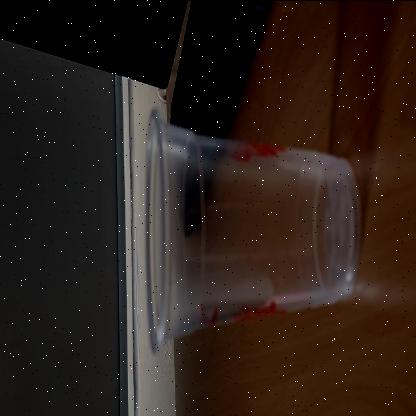Others: (144, 104, 362, 354)
